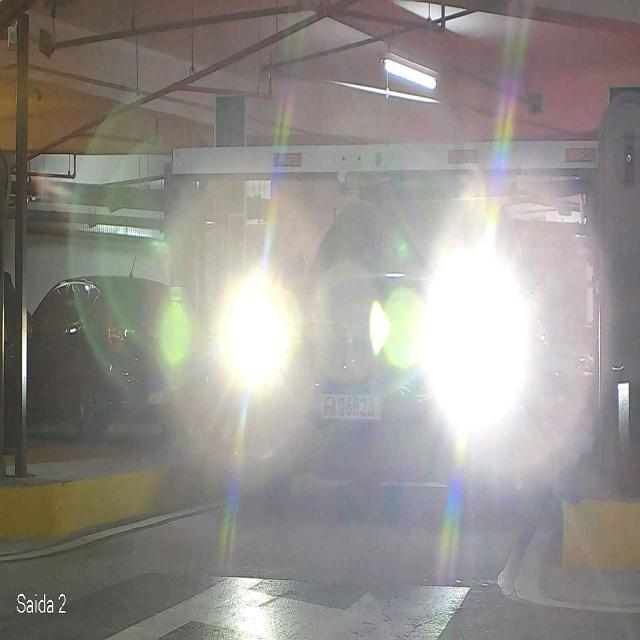mercosul_plate: (314, 382, 385, 422)
